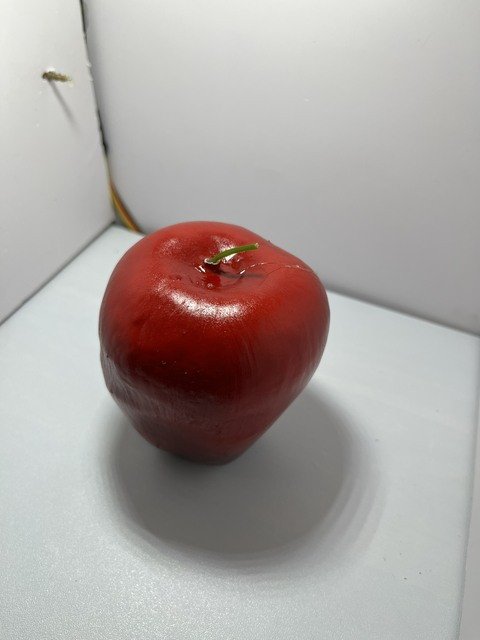Tao: (89, 211, 336, 476)
